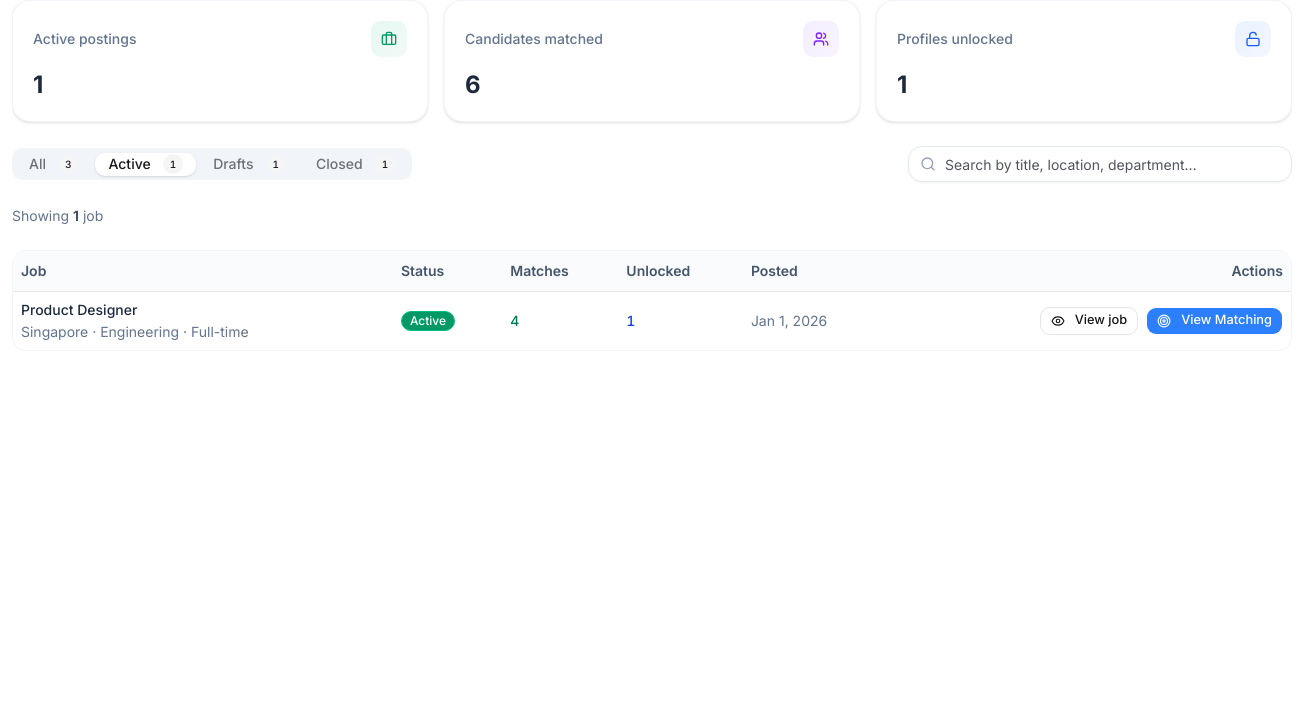
Test case: EmployerJobsList › filters jobs by search query
The width and height of the screenshot is (1304, 720).
Click the tab "All 3": (54, 164) top-left (16, 152), bottom-right (92, 176)
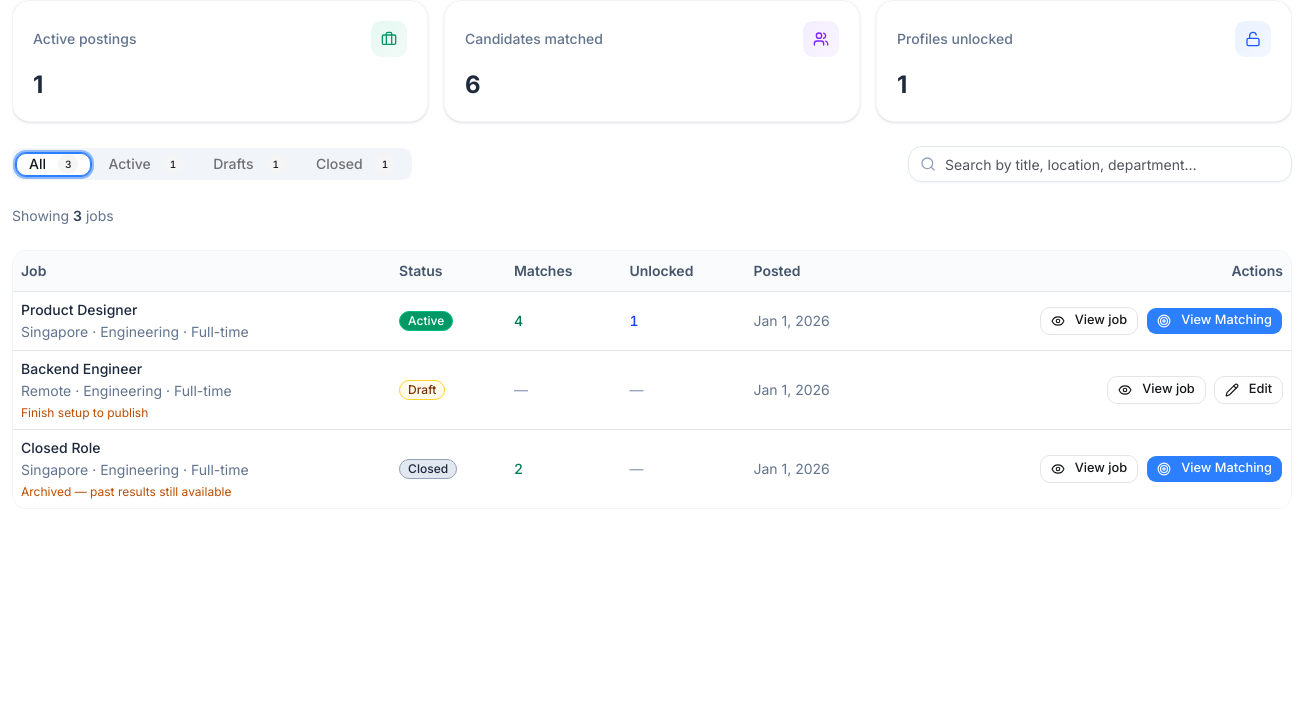
In the search field named "Search jobs": (1100, 164) top-left (908, 146), bottom-right (1292, 182), type "remote"
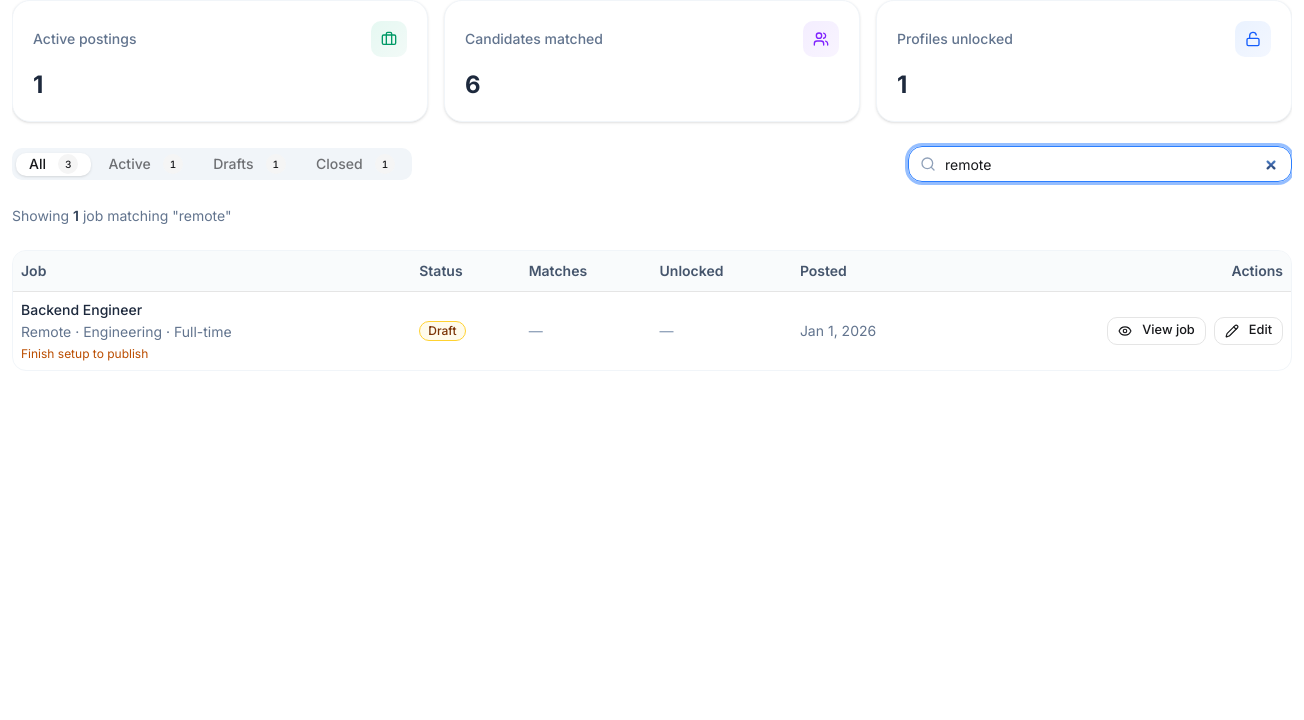
Expected: the link "Product Designer" is gone
